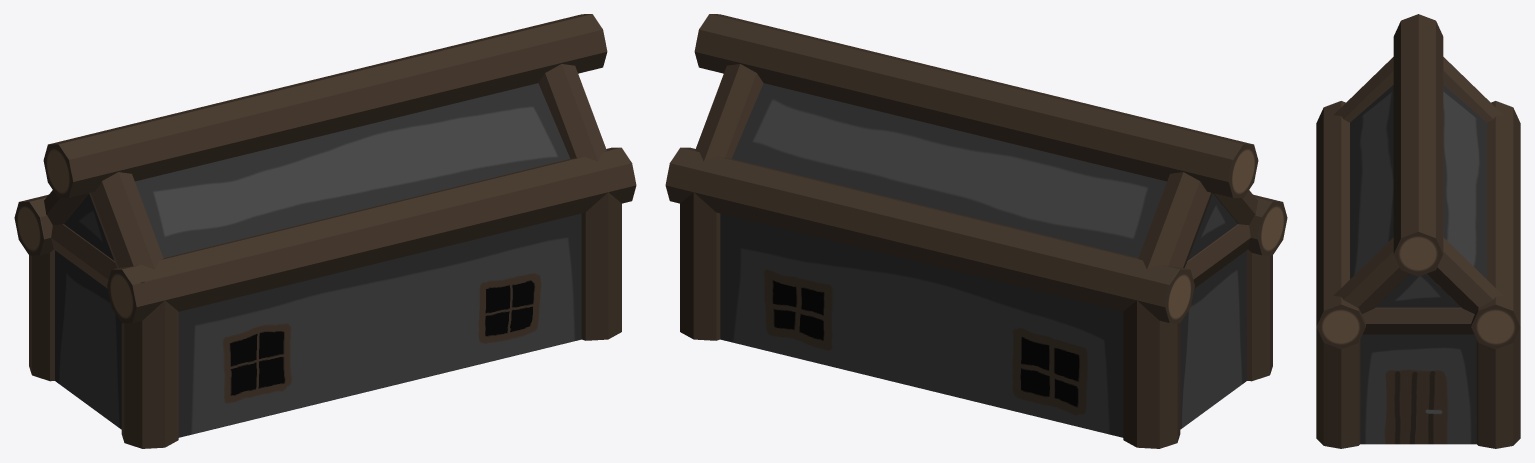
The model's file is domecek2.fbx.
The picture shows the model from 3 angles, left to right: view 1: azimuth 30°, elevation 25°; view 2: azimuth 150°, elevation 25°; view 3: azimuth 270°, elevation 25°; orthographic projection. The views are drawn at different scales.
Visible parts, largest first — view 1: domecek2; view 2: domecek2; view 3: domecek2.
Boxes of the visible parts, x1,y1,x2,y2 form: domecek2: (14,14,636,448); domecek2: (665,14,1287,448); domecek2: (1316,14,1520,448).
Bounding box in the file's own units: 1133 × 547 × 449.
Materials: 1 (1 with a texture image).
